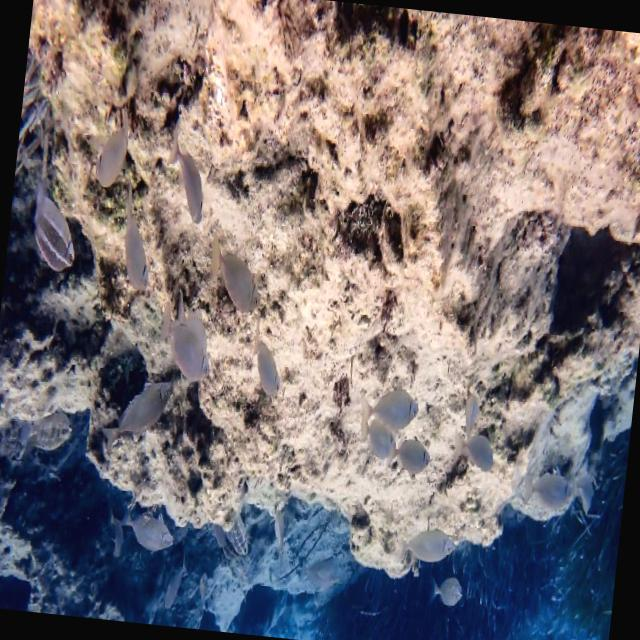Sokar Baligi: (18, 150, 91, 282), (199, 228, 272, 326), (157, 120, 216, 231), (515, 455, 582, 528), (388, 519, 472, 569)
